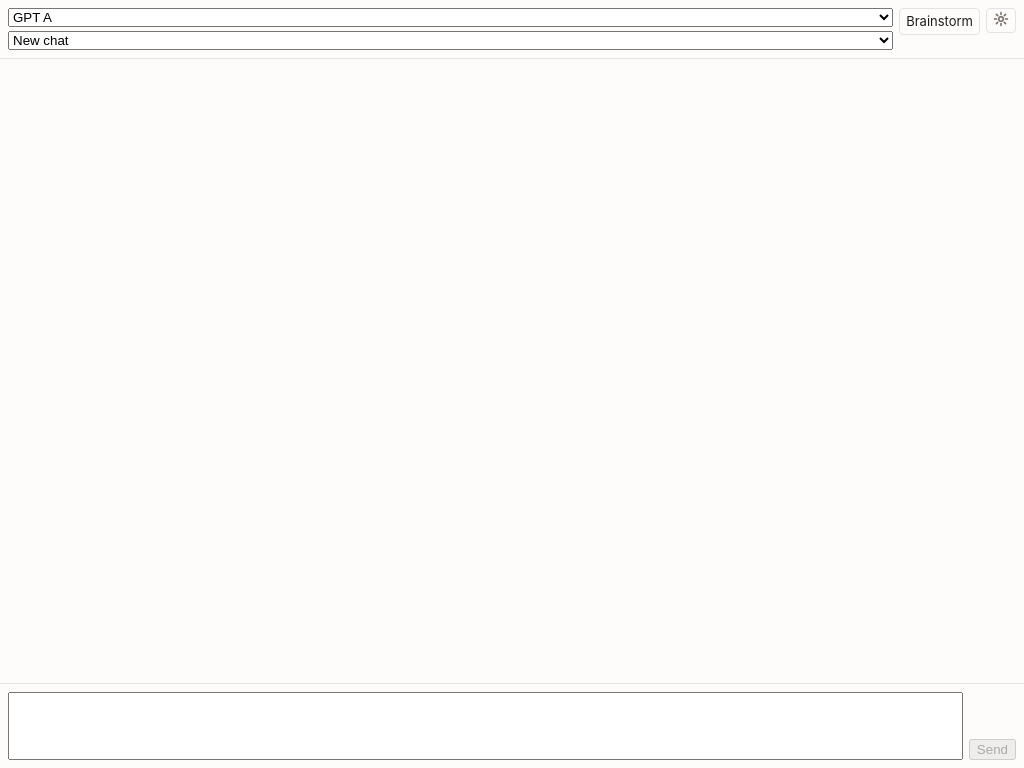
says so when a reply finishes with no text
Expected: the dropdown named "Model" shows "GPT A", [8,8,893,27]
Type "hi" into the text box named "Message".
click(485, 726); type("hi")  # box [8,692,963,760]
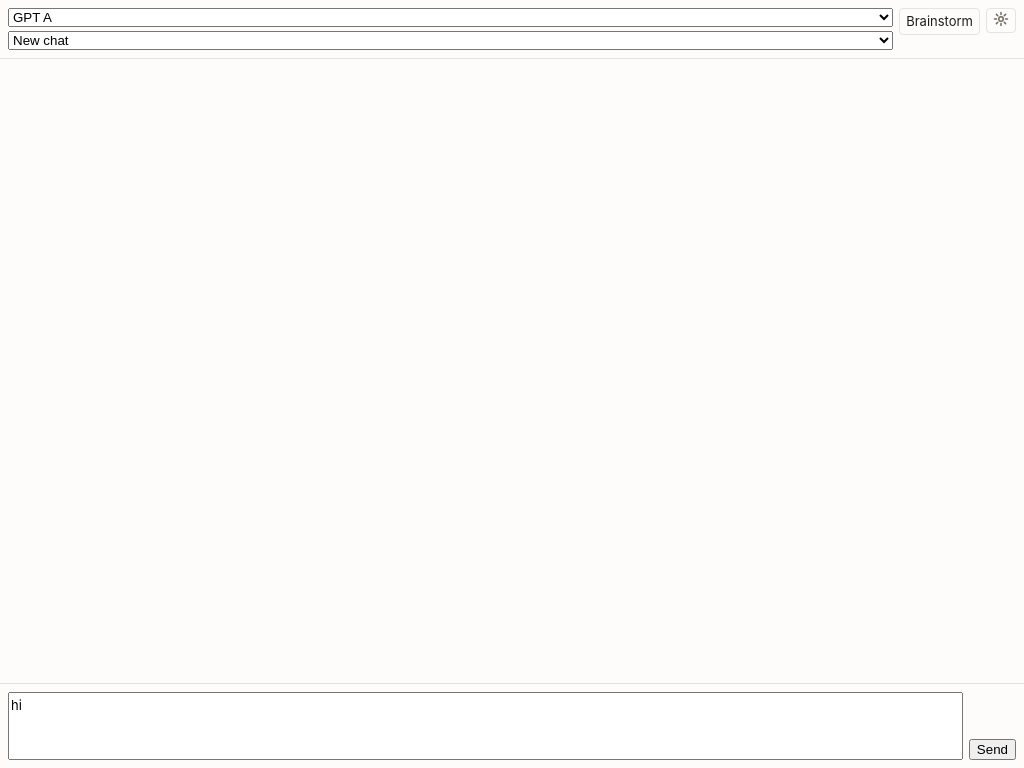
Press Enter in the text box named "Message", box [8,692,963,760]
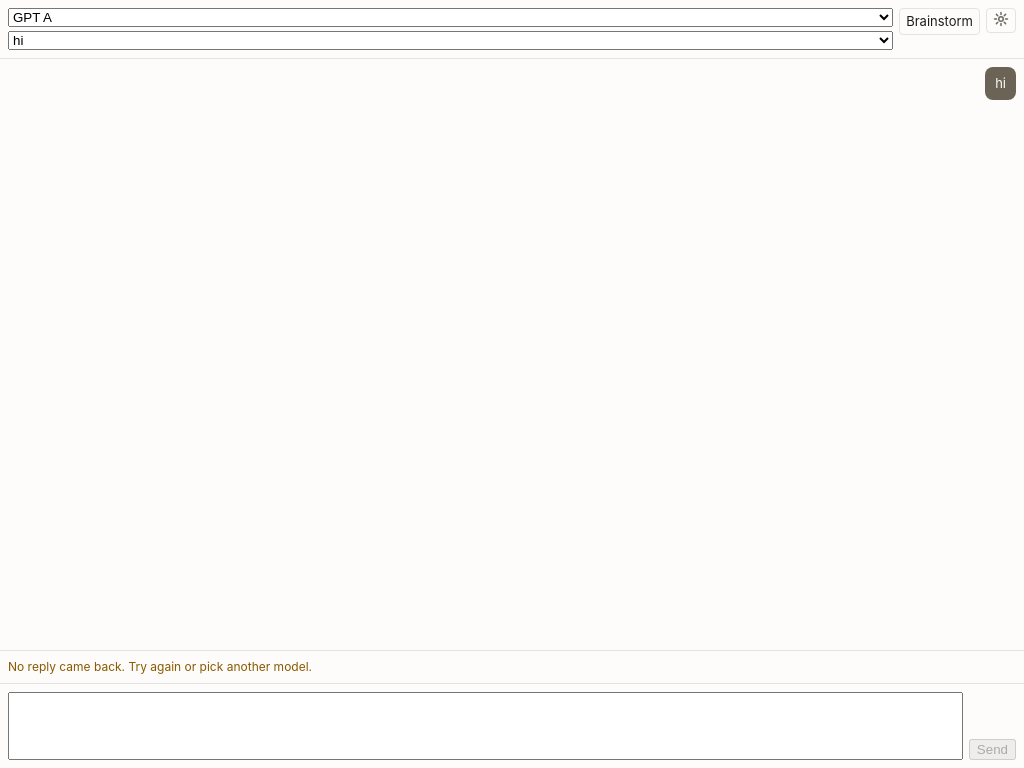
Expected: the message reads "No reply came back. Try again or pick another model.", [8,659,312,674]
